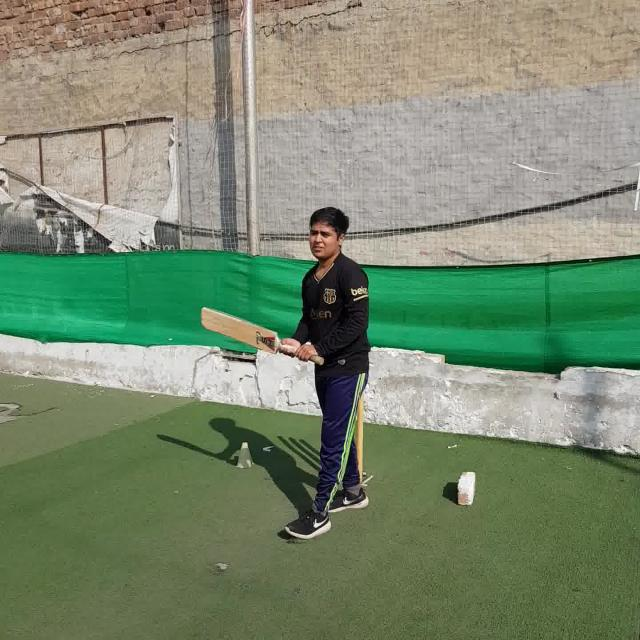bat: (201, 307, 324, 365)
